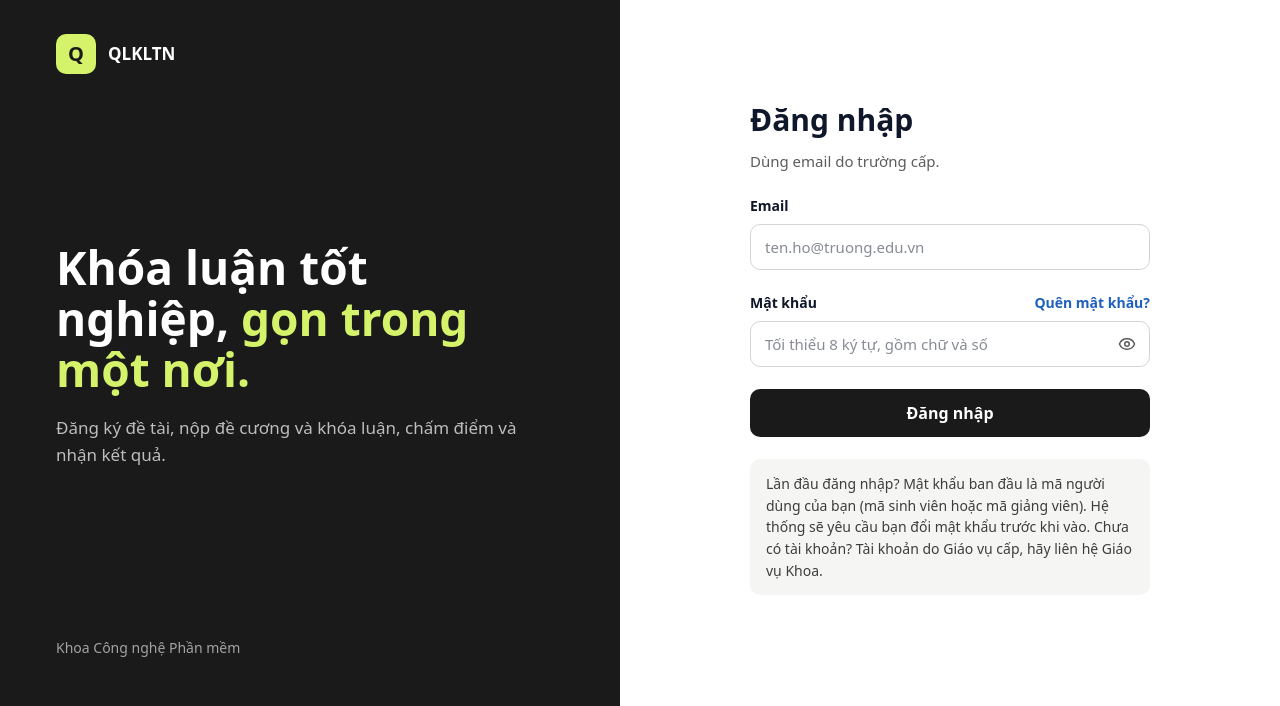
it: clears the session when the user logs out from the change-password step
Type "an.nv@truong.edu.vn" into the field labelled "Email".
click(950, 247); type("an.nv@truong.edu.vn")  # box [750, 224, 1150, 270]
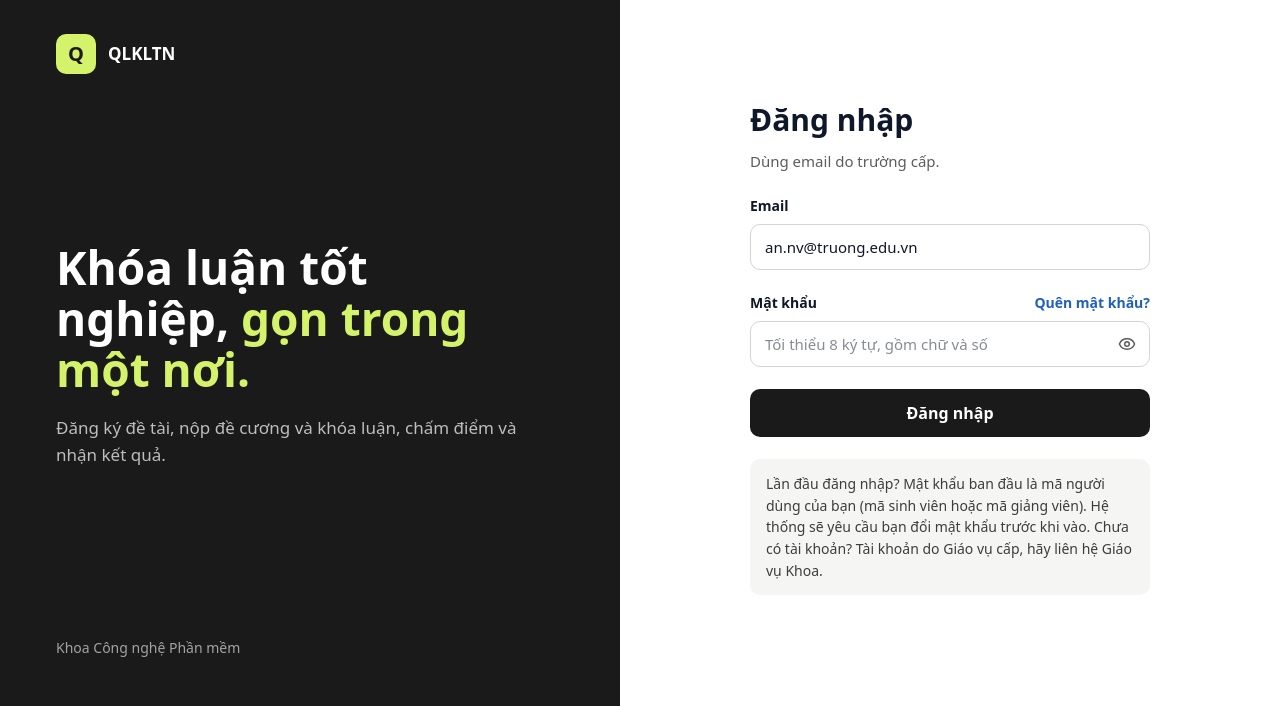
Type "22520001" into the password field labelled "Mật khẩu".
click(950, 344); type("22520001")  # box [750, 321, 1150, 367]
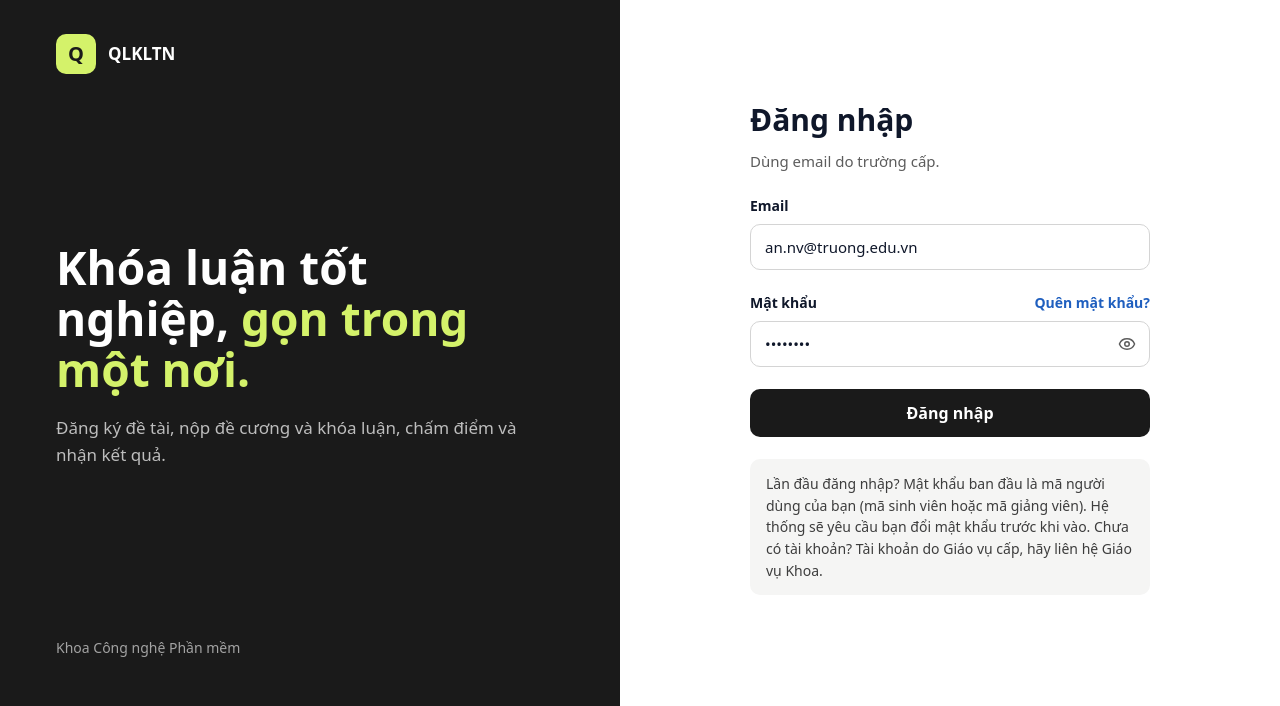
Click the button "Đăng nhập".
click(950, 413)  # box [750, 389, 1150, 437]
(page scrolled)
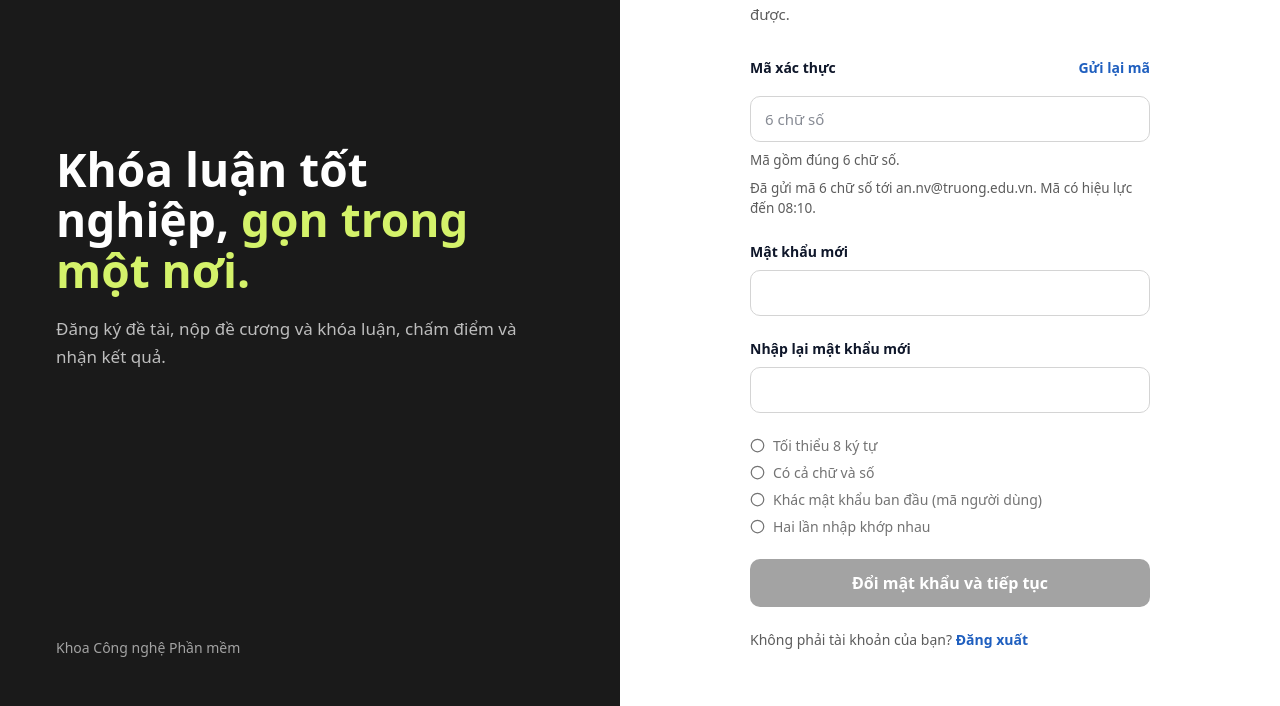
Click the button "Đăng xuất".
click(992, 639)  # box [956, 628, 1028, 650]
(page scrolled)
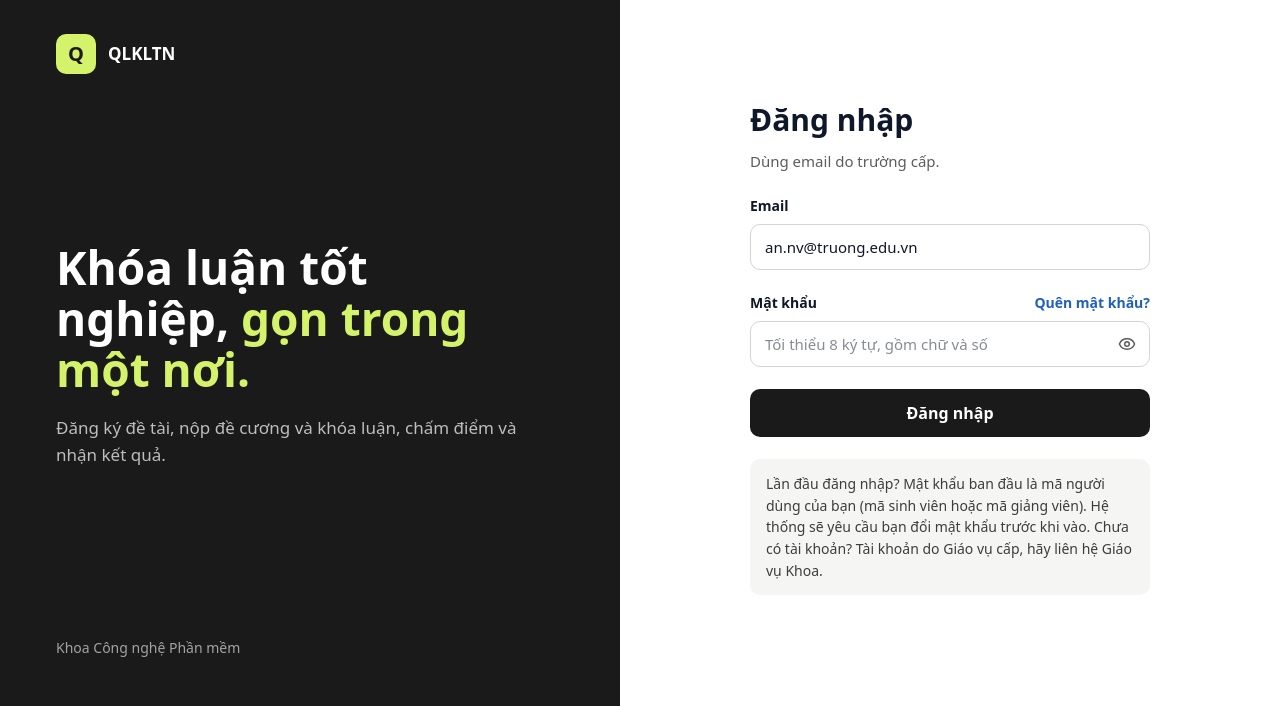
Check: the button "Đăng nhập" is shown, box [750, 389, 1150, 437]
